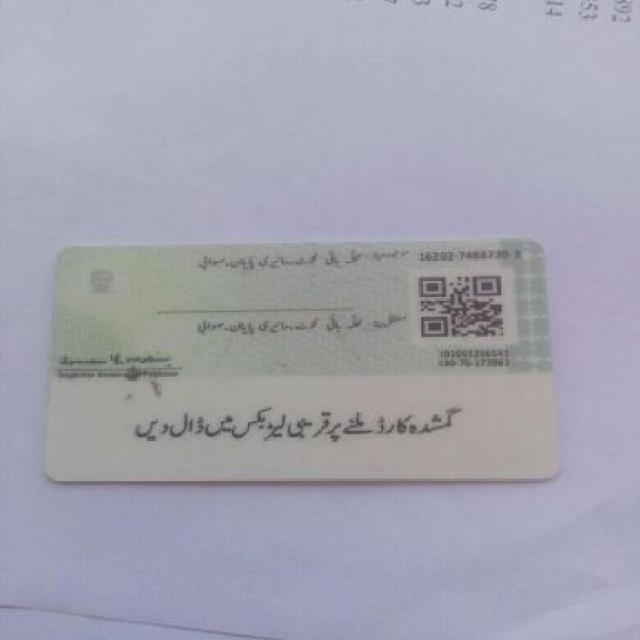Back: (37, 234, 574, 486)
